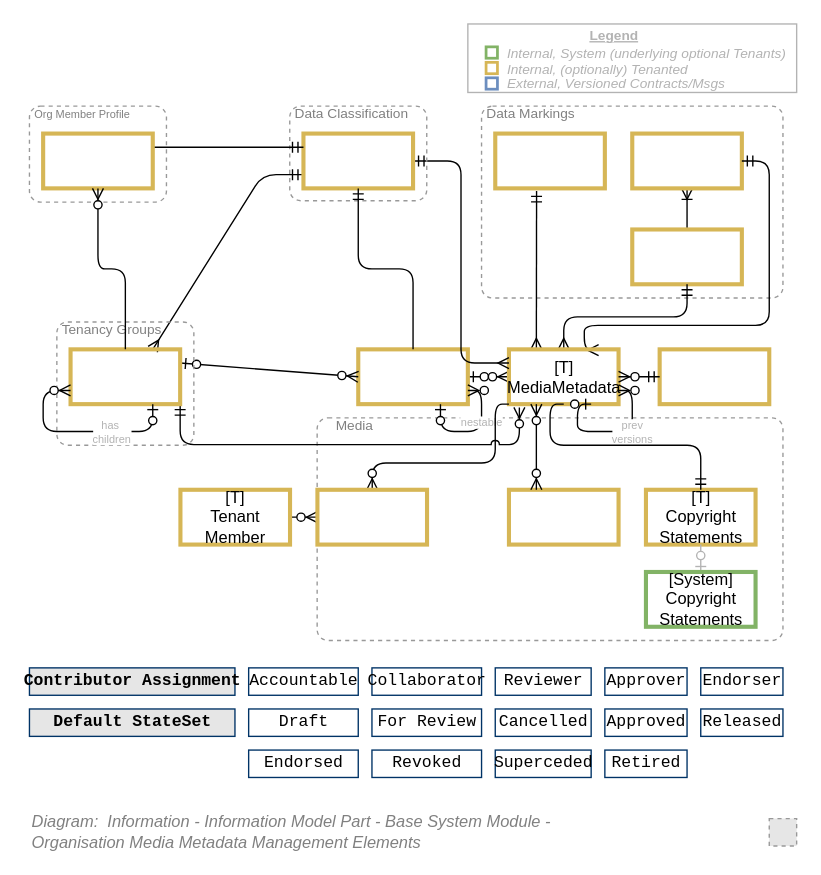
Image size: 821x875. Some labels were removed from this diagram. Grey dashed boxes stand in for pictures. Each missing label, with the centre of its shape:
"[T] Contributor Assignment" goes at (371,516).
"[T] Data Classification" goes at (357,160).
"[T] Group" goes at (125,376).
"[T] Instruction" goes at (549,160).
"[T] MediaCollection" goes at (412,376).
"[T] MediaMetadata Tags" goes at (563,516).
"[T] Membership Profile" goes at (97,160).
"[T] Resource Terms" goes at (714,376).
"[T] State" goes at (686,160).
"[T] StateSet" goes at (686,256).
